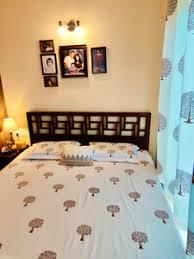bed: (0, 113, 189, 259)
light: (59, 16, 87, 39), (2, 115, 16, 152), (14, 127, 28, 149)
table: (0, 142, 28, 170)
